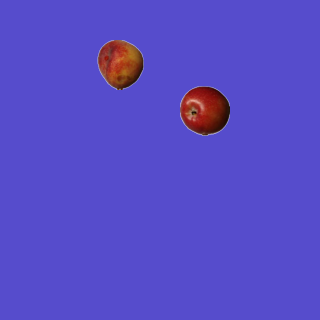Apple Braeburn: (179, 85, 229, 135)
Peach: (95, 39, 145, 89)
